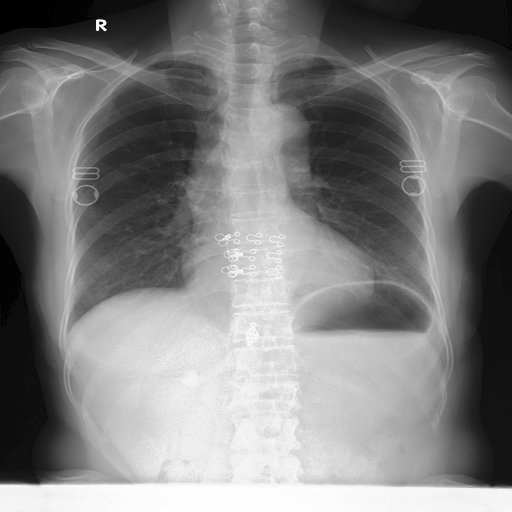Consolidation: (266, 102, 311, 155)
Nodule/Mass: (179, 242, 378, 294)
